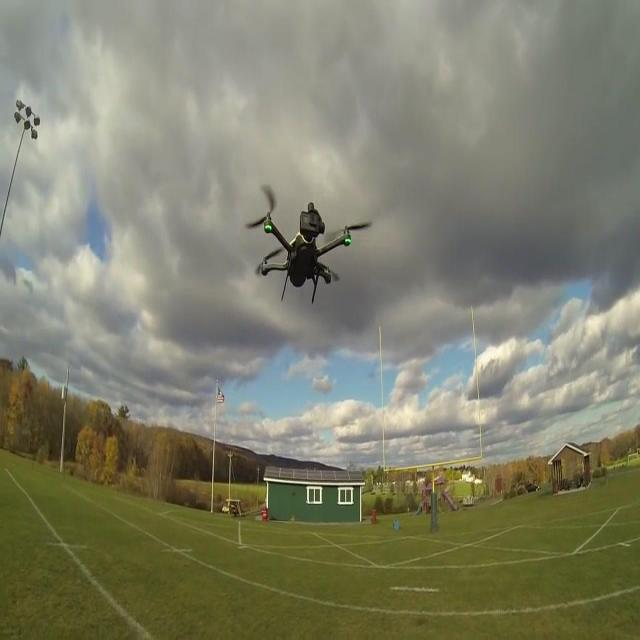UAV: (244, 185, 372, 305)
